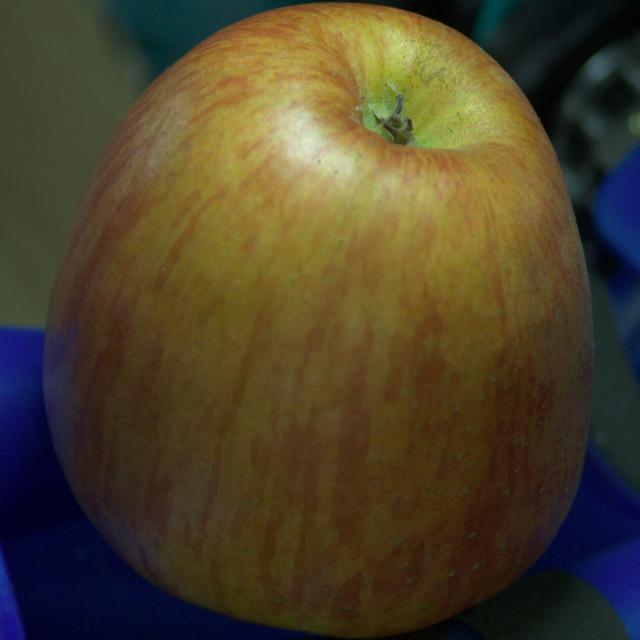apple: (43, 3, 592, 638)
